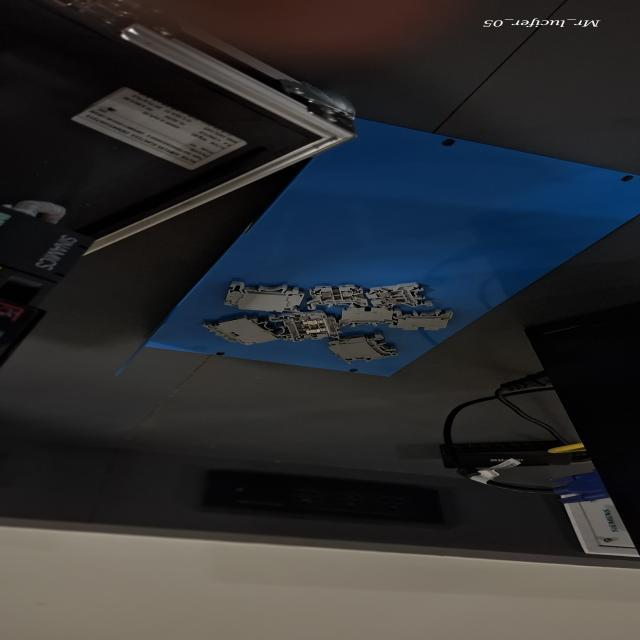Inverted: (392, 308, 454, 334), (334, 307, 398, 329)
Pass: (363, 276, 443, 310), (304, 281, 368, 311)
